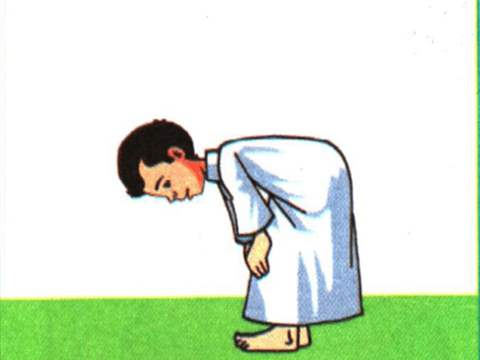ruku: (100, 77, 395, 354)
